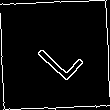L_NW: (26, 27, 84, 83)
